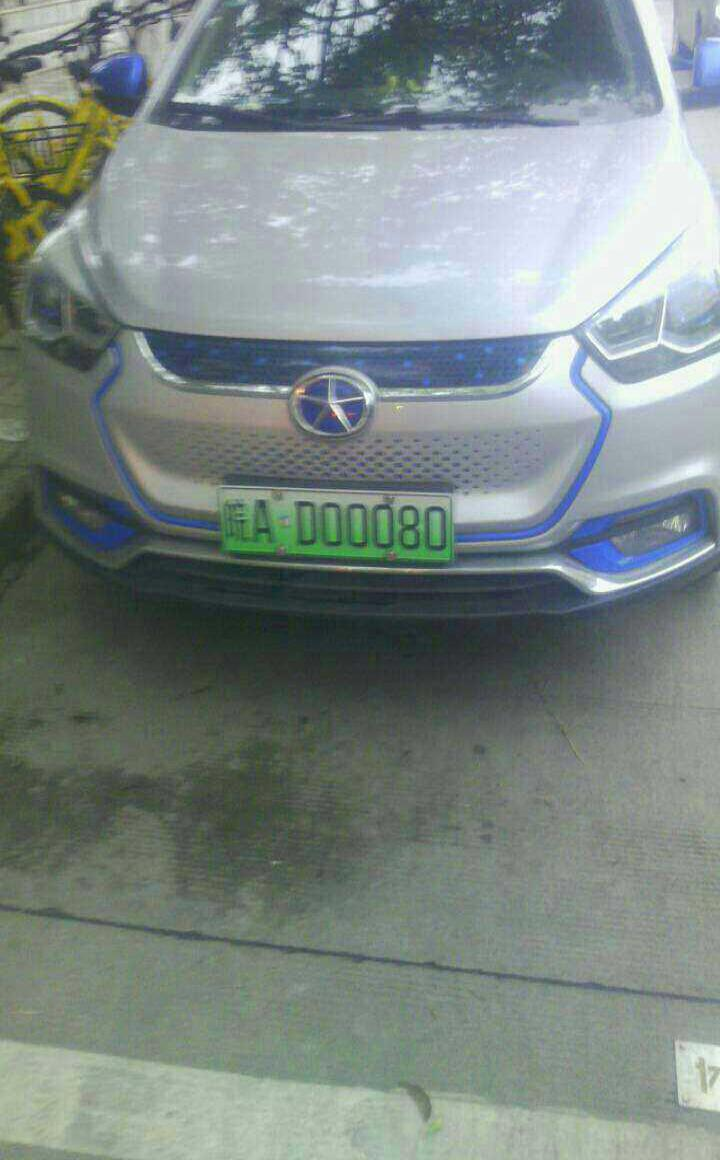car: (215, 479, 466, 565)
